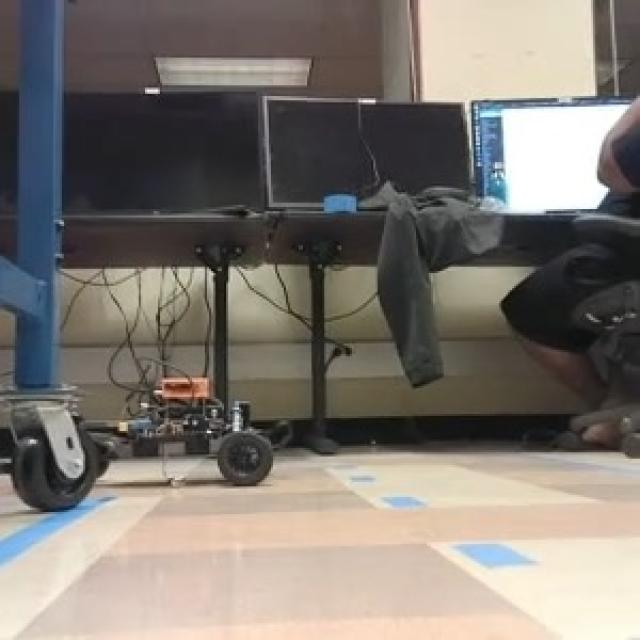obstacle: (81, 375, 280, 488)
